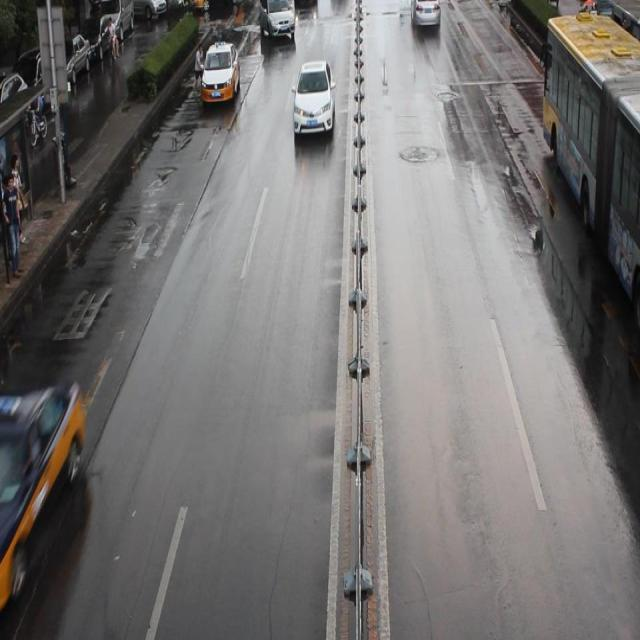car: (1, 384, 85, 588), (292, 60, 335, 134), (200, 39, 240, 103), (258, 1, 295, 40), (408, 1, 440, 29), (293, 1, 316, 8)
van: (541, 11, 640, 324)
